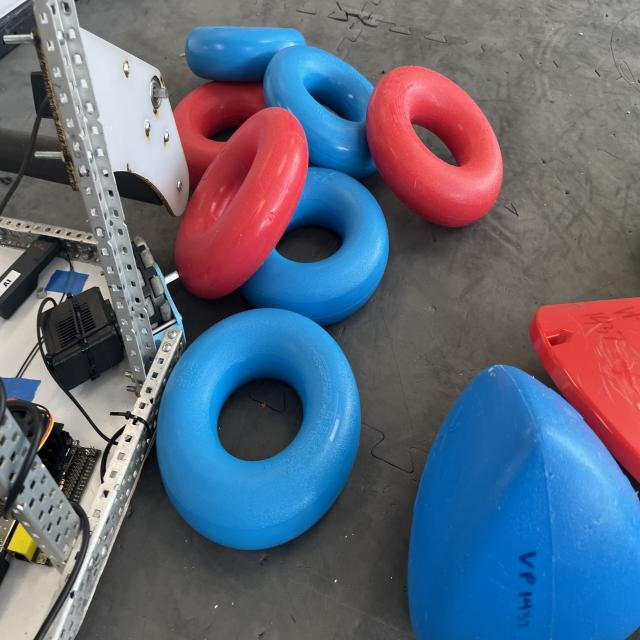Blue-Ring: (156, 308, 361, 550), (241, 167, 389, 325), (264, 45, 376, 178), (185, 27, 305, 82)
Red-Ring: (175, 107, 309, 298), (366, 67, 502, 227), (174, 82, 265, 188)
